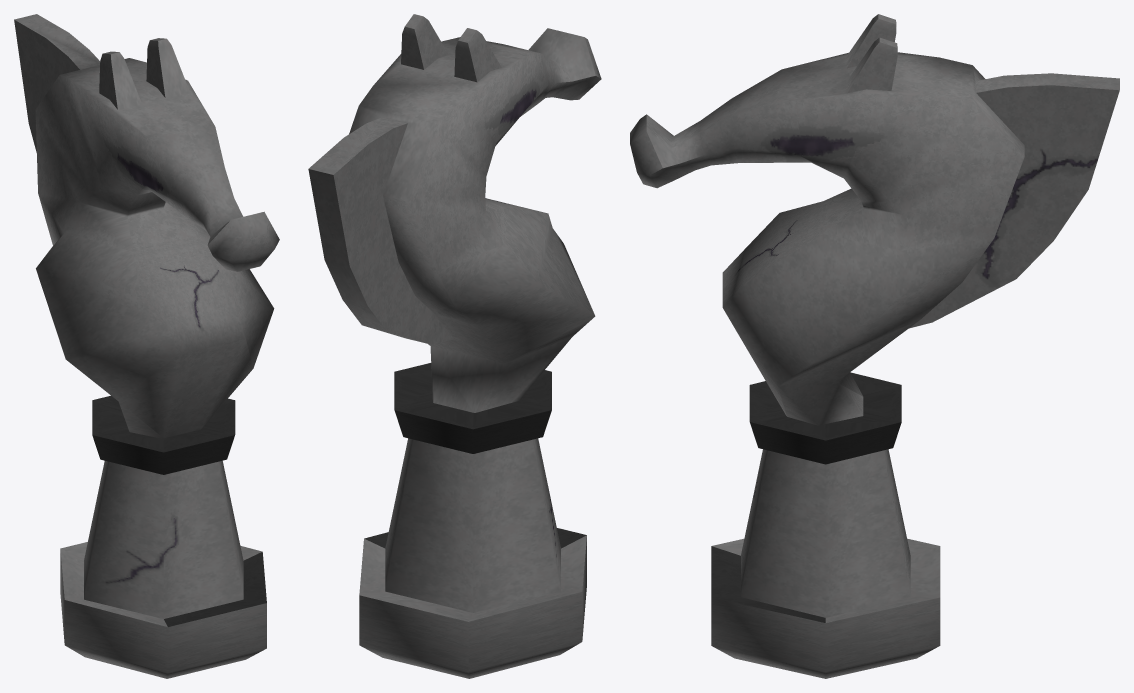
Rendered from ModelBlack.fbx.
The picture shows the model from 3 angles, left to right: view 1: azimuth 30°, elevation 25°; view 2: azimuth 150°, elevation 25°; view 3: azimuth 270°, elevation 25°; orthographic projection. The views are drawn at different scales.
Parts seen in each view (by area): view 1: polySurface2; view 2: polySurface2; view 3: polySurface2.
Boxes of the visible parts, left/top/right/bottom form: polySurface2: left=14, top=14, right=279, bottom=678; polySurface2: left=308, top=14, right=601, bottom=678; polySurface2: left=630, top=14, right=1119, bottom=678.
Size of the model in its own units: 3.25 by 8.56 by 6.22.
